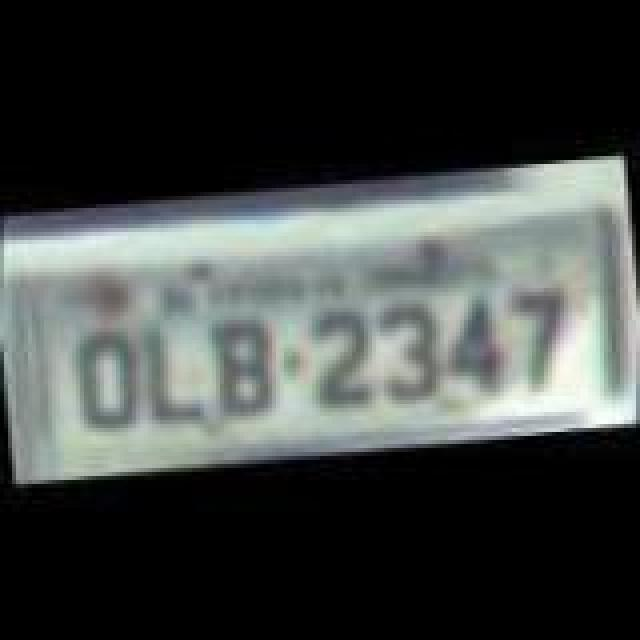2: (296, 302, 384, 422)
3: (362, 290, 438, 414)
4: (432, 280, 512, 400)
7: (506, 278, 582, 402)
B: (208, 310, 280, 426)
L: (140, 314, 212, 430)
O: (64, 322, 148, 438)
